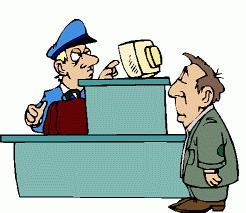person: (155, 47, 236, 212), (15, 14, 117, 130)
